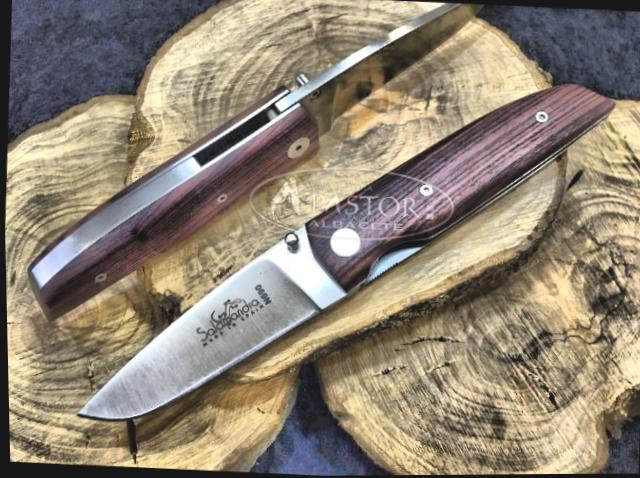knife: (59, 201, 363, 438)
